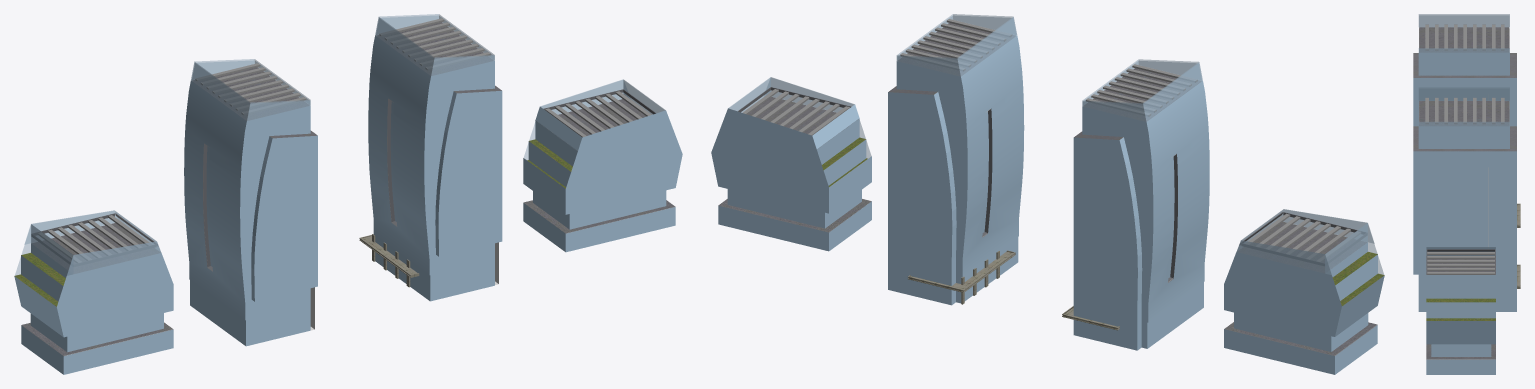
Rendered from building1.glb.
3 renders of one model, left to right at view 1: azimuth 30°, elevation 25°; view 2: azimuth 150°, elevation 25°; view 3: azimuth 270°, elevation 25°, orthographic. The views are drawn at different scales.
Parts seen in each view (by area): view 1: D1-高-玻璃, D2-高-玻璃, D3-主体, 立方体.4618, D2-矮-玻璃, D1-矮-玻璃, D3-主体-内墙, D2-高-内墙, D1-高-内墙, D5-主体, D5-主体-内墙, 立方体.2020 (+2 smaller); view 2: D1-高-玻璃, D2-高-玻璃, D3-主体, 立方体.4618, D1-矮-玻璃, D2-矮-玻璃, D3-主体-内墙, D5-主体, D2-高-内墙, D1-高-内墙, D5-主体-内墙, 立方体.2020 (+2 smaller); view 3: D2-矮-玻璃, 立方体.4618, D2-高-玻璃, D1-高-玻璃, D1-矮-玻璃, D2-高-内墙, D5-主体, D1-高-内墙, D5-主体-内墙, 立方体.4619, 立方体.614, 立方体.795 (+23 smaller).
Part boxes in pixels (x1,y1,x2,y2): D1-高-玻璃: (184,59,310,346); D2-高-玻璃: (368,14,494,301); D3-主体: (14,210,173,374); 立方体.4618: (523,79,682,252); D2-矮-玻璃: (435,85,502,256); D1-矮-玻璃: (251,130,317,301); D3-主体-内墙: (15,210,173,355); D2-高-内墙: (376,15,493,225); D1-高-内墙: (192,60,309,270); D5-主体: (535,106,674,150); D5-主体-内墙: (523,80,674,233); 立方体.2020: (32,223,160,273); D1-高-玻璃: (1082,59,1209,348); D2-高-玻璃: (896,14,1024,303); D3-主体: (1224,209,1384,374); 立方体.4618: (711,77,871,251); D1-矮-玻璃: (1073,131,1142,350); D2-矮-玻璃: (888,86,956,305); D3-主体-内墙: (1224,209,1383,355); D5-主体: (712,104,859,169); D2-高-内墙: (897,15,1016,237); D1-高-内墙: (1083,60,1201,282); D5-主体-内墙: (719,77,871,232); 立方体.2020: (1237,221,1366,272); D2-矮-玻璃: (1413,126,1516,311); 立方体.4618: (1426,247,1495,374); D2-高-玻璃: (1418,87,1509,255); D1-高-玻璃: (1418,14,1509,100); D1-矮-玻璃: (1413,53,1516,126); D2-高-内墙: (1419,88,1509,246); D5-主体: (1426,275,1495,298); D1-高-内墙: (1419,15,1509,52); D5-主体-内墙: (1426,247,1495,359); 立方体.4619: (1426,255,1495,274); 立方体.614: (1427,249,1495,251); 立方体.795: (1427,252,1494,254).
Size of the model in its own units: 9.31 by 3.45 by 1.69.
8 materials, 3 textured.
